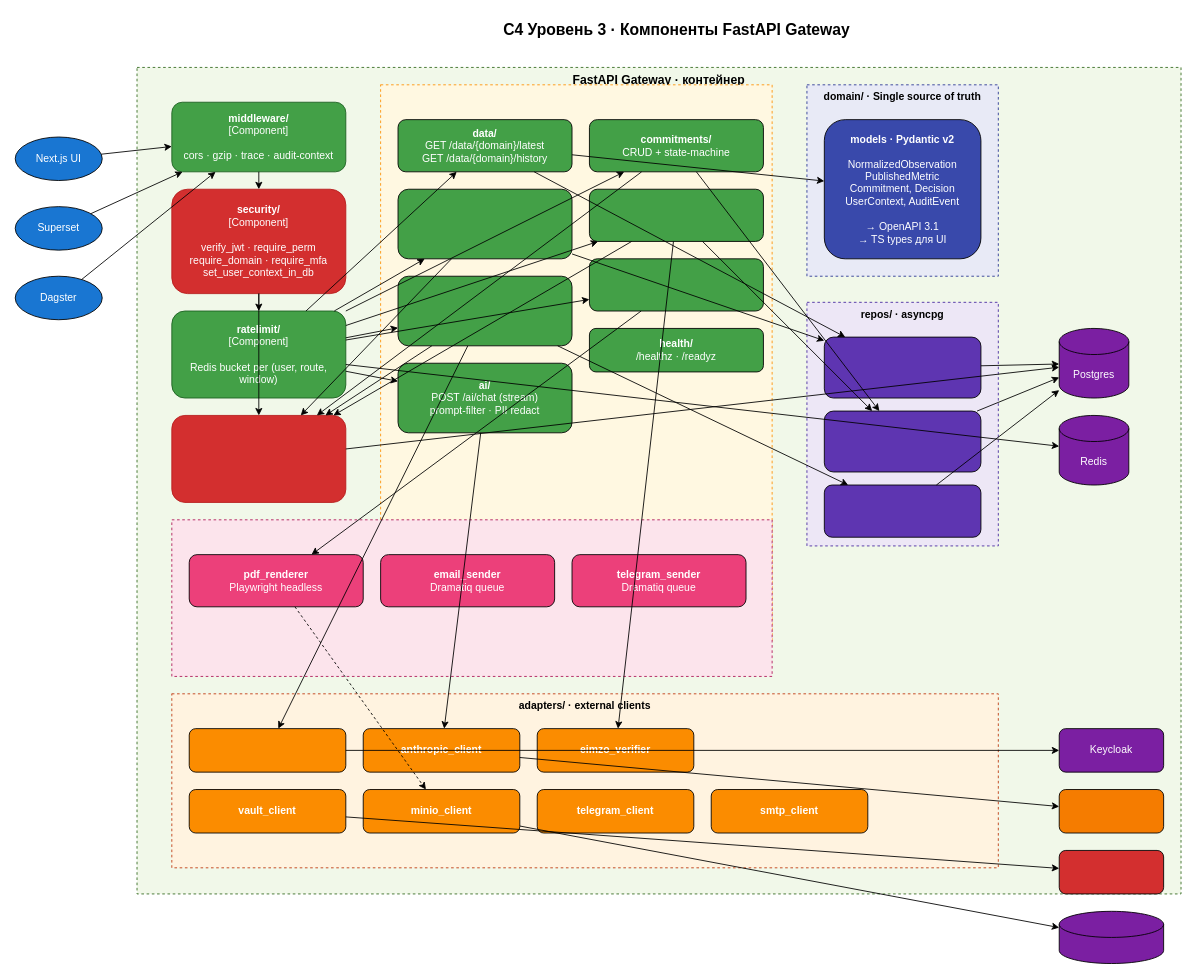
Some shapes in this 1196 by 979 pixel diagram are drawn without their labels. The shapes that lost their labels are listed below. From the top down, each one's box as (x1, y1, x2, y2) in pixels, then its label:
(397, 188, 572, 259): governance/ GET /review-queue POST /publish (+ MFA) POST /reject · /undo
(589, 188, 763, 241): decisions/ workflow + E-IMZO sign
(589, 258, 763, 311): exports/ PDF / DOCX async jobs
(397, 275, 572, 346): admin/ users · policies audit · secrets
(380, 84, 772, 642): api/v1/ · Routers
(823, 336, 981, 398): marts_repo published_metric data_review_queue
(171, 415, 346, 502): workers/audit_writer [Component] WAL append + Ed25519 sign hash chain (Merkle)
(823, 410, 981, 472): ops_repo commitments · decisions audit · comments
(823, 484, 981, 537): auth_repo app_user · preferences
(171, 519, 772, 676): workers/ · background
(188, 728, 346, 772): keycloak_admin_client
(1058, 789, 1164, 833): Anthropic
(1058, 850, 1164, 894): Vault
(1058, 910, 1164, 964): MinIO
